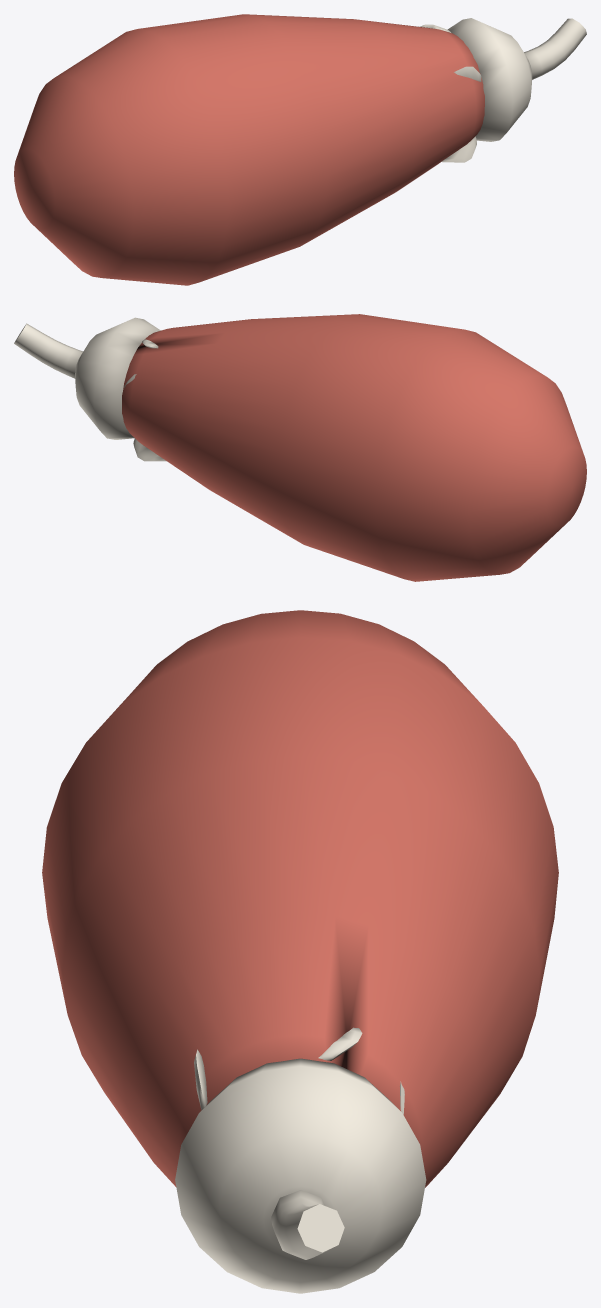
The model's file is food_eggplant.glb.
3 views of the same model, one above another, from view 1: azimuth 30°, elevation 25°; view 2: azimuth 150°, elevation 25°; view 3: azimuth 270°, elevation 25° (orthographic). The views are drawn at different scales.
Visible parts, largest first — view 1: PART; view 2: PART; view 3: PART.
Part boxes in pixels (x1,y1,x2,y2): PART: [14, 14, 586, 285]; PART: [14, 314, 586, 581]; PART: [42, 610, 558, 1293].
Bounding box in the file's own units: 0.1879 × 0.0764 × 0.0761.
